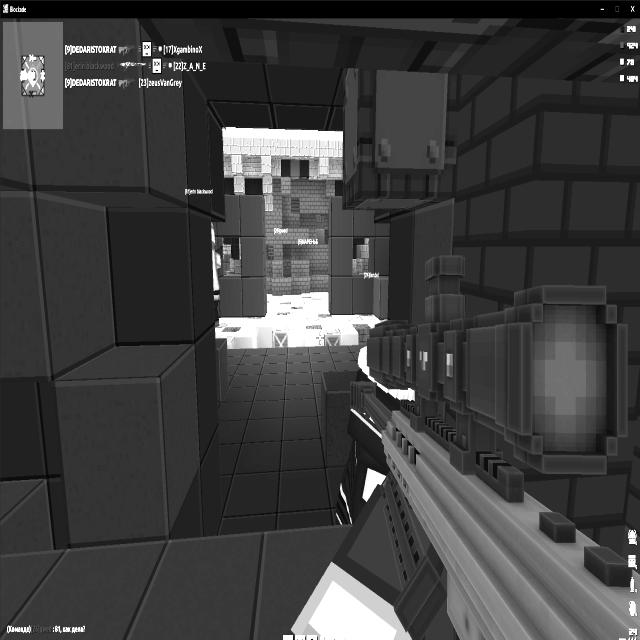Head: (342, 334, 417, 468), (210, 222, 220, 250)
Player: (332, 323, 421, 534), (212, 223, 226, 332)
